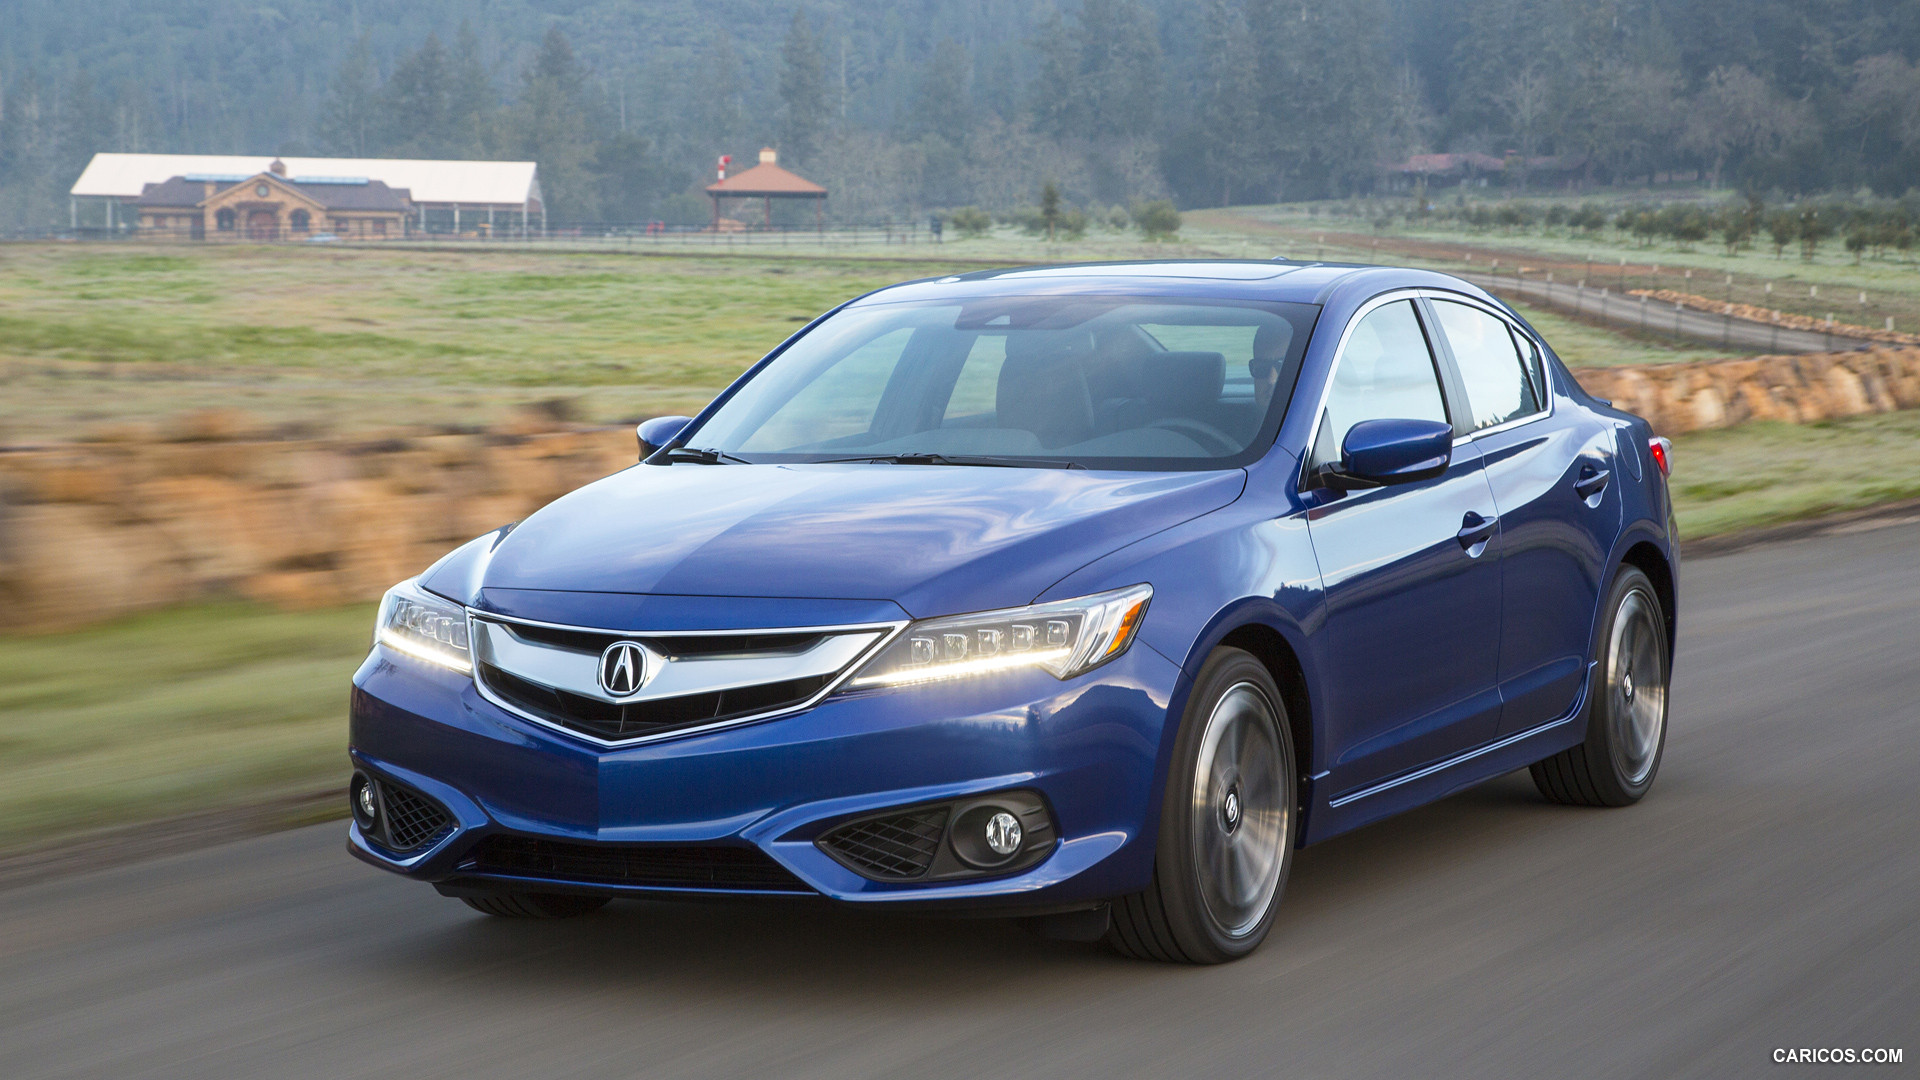Fog Lamp & Scope: (814, 787, 1064, 884)
Front: (332, 477, 1265, 909)
Front Bumper: (342, 741, 1154, 897)
Grill: (458, 625, 877, 746)
Headlight: (832, 578, 1160, 702)
